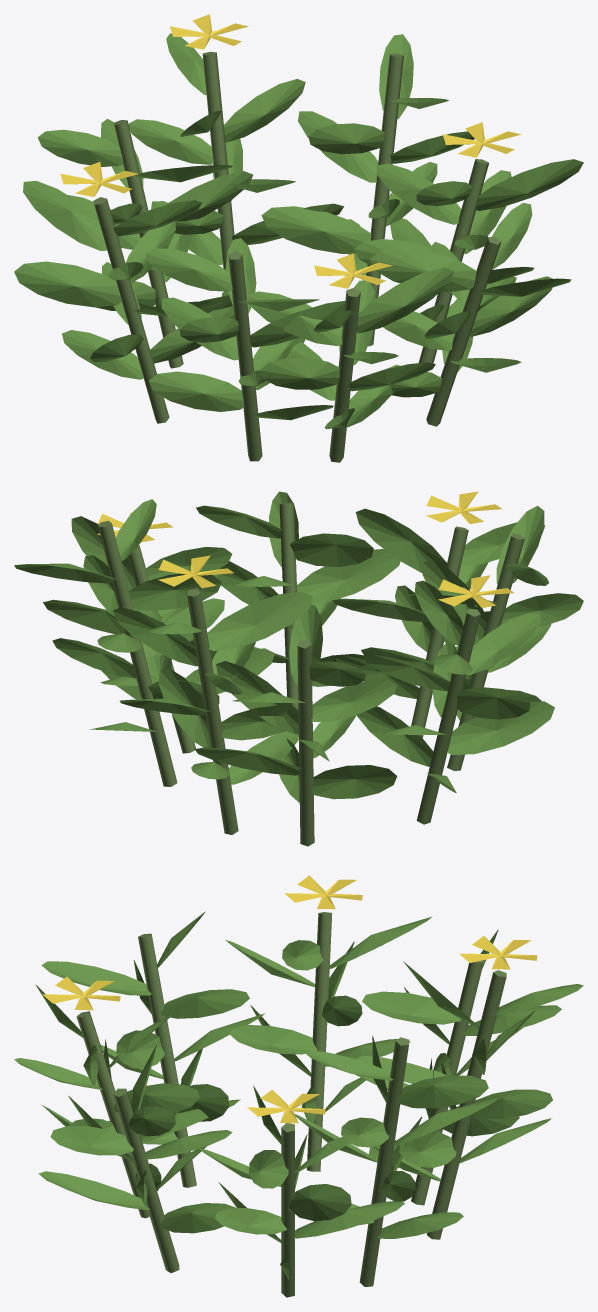
File: sedum-lineare.glb
The picture shows the model from 3 angles, top to bottom: view 1: azimuth 30°, elevation 25°; view 2: azimuth 150°, elevation 25°; view 3: azimuth 270°, elevation 25°; orthographic projection.
Parts seen in each view (by area): view 1: Species leaves, Species stems, Species flowers / bracts; view 2: Species leaves, Species stems, Species flowers / bracts; view 3: Species leaves, Species stems, Species flowers / bracts.
Boxes of the visible parts, left/top/right/bottom form: Species leaves: left=14, top=33, right=583, bottom=429; Species stems: left=93, top=51, right=501, bottom=462; Species flowers / bracts: left=60, top=14, right=521, bottom=288; Species leaves: left=14, top=491, right=583, bottom=802; Species stems: left=98, top=502, right=524, bottom=846; Species flowers / bracts: left=97, top=491, right=513, bottom=607; Species leaves: left=14, top=911, right=583, bottom=1280; Species stems: left=76, top=912, right=506, bottom=1297; Species flowers / bracts: left=42, top=875, right=537, bottom=1123.
Bounding box in the file's own units: 0.3147 × 0.1674 × 0.2991.
